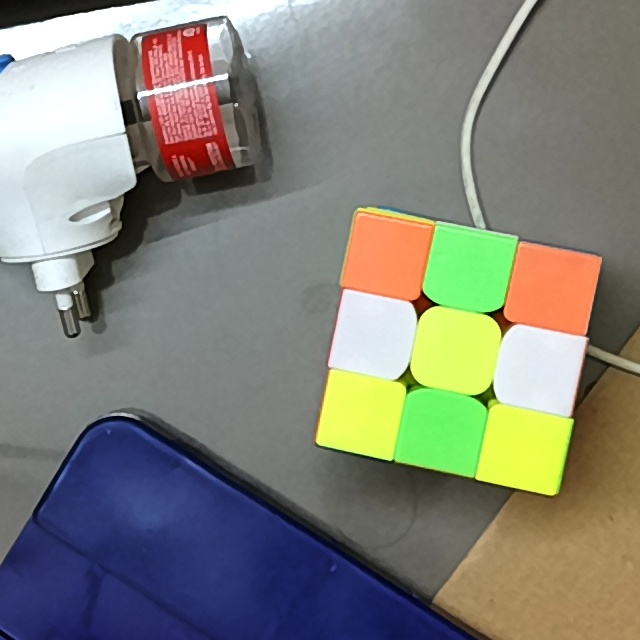tile: (508, 336, 574, 403), (519, 255, 587, 319), (433, 240, 505, 299), (423, 321, 489, 383), (342, 304, 406, 367), (357, 224, 421, 286), (407, 405, 475, 461), (329, 385, 392, 444), (493, 420, 556, 476)
